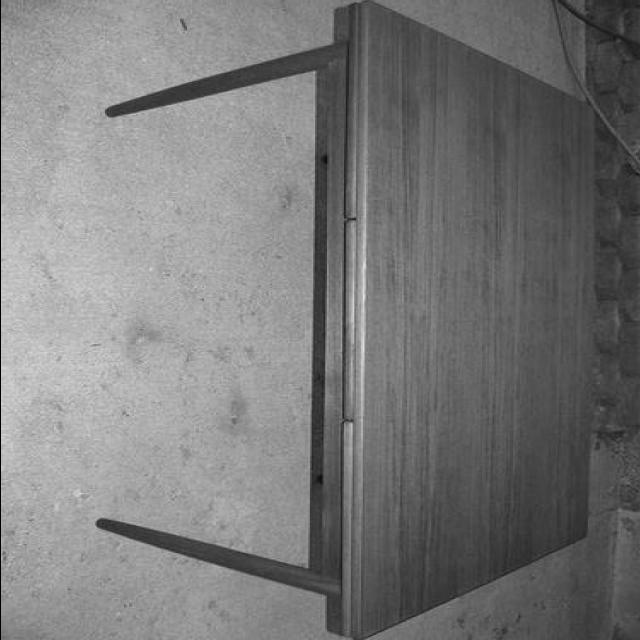table: (94, 2, 592, 636)
